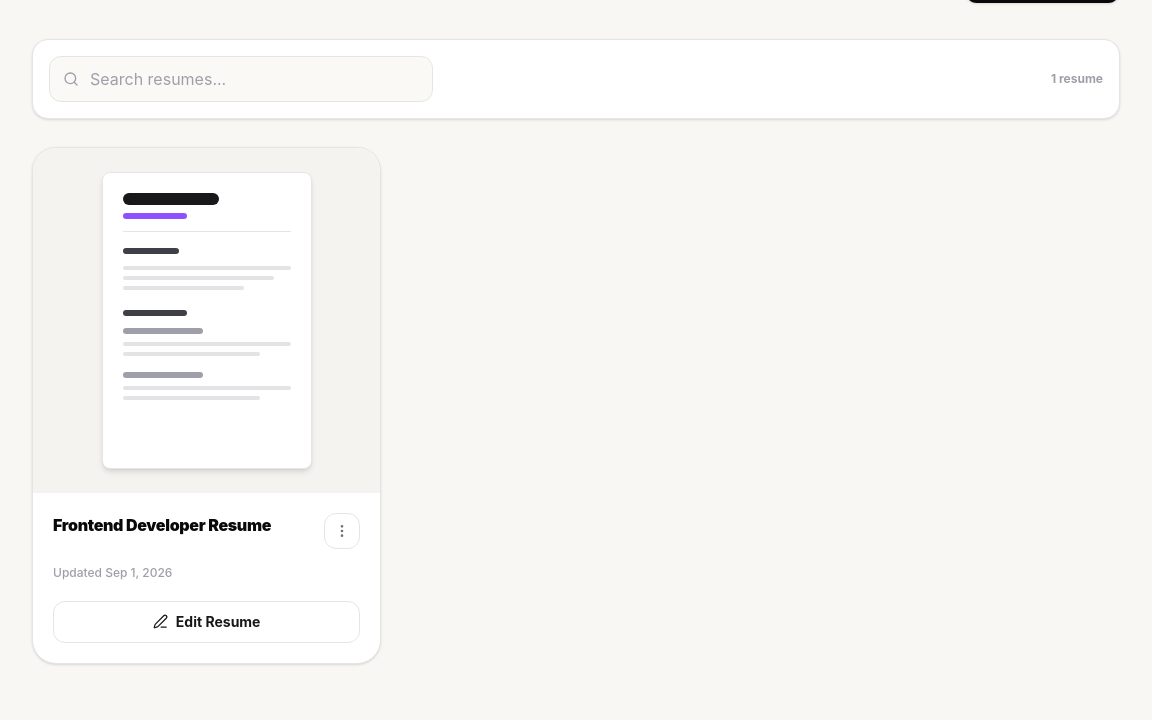
Test: ResumeCard action menu › opens the resume action menu
The width and height of the screenshot is (1152, 720).
(page scrolled)
Step 1. Click the button named "Actions for Frontend Developer Resume" → [342, 531], box [324, 513, 360, 549]
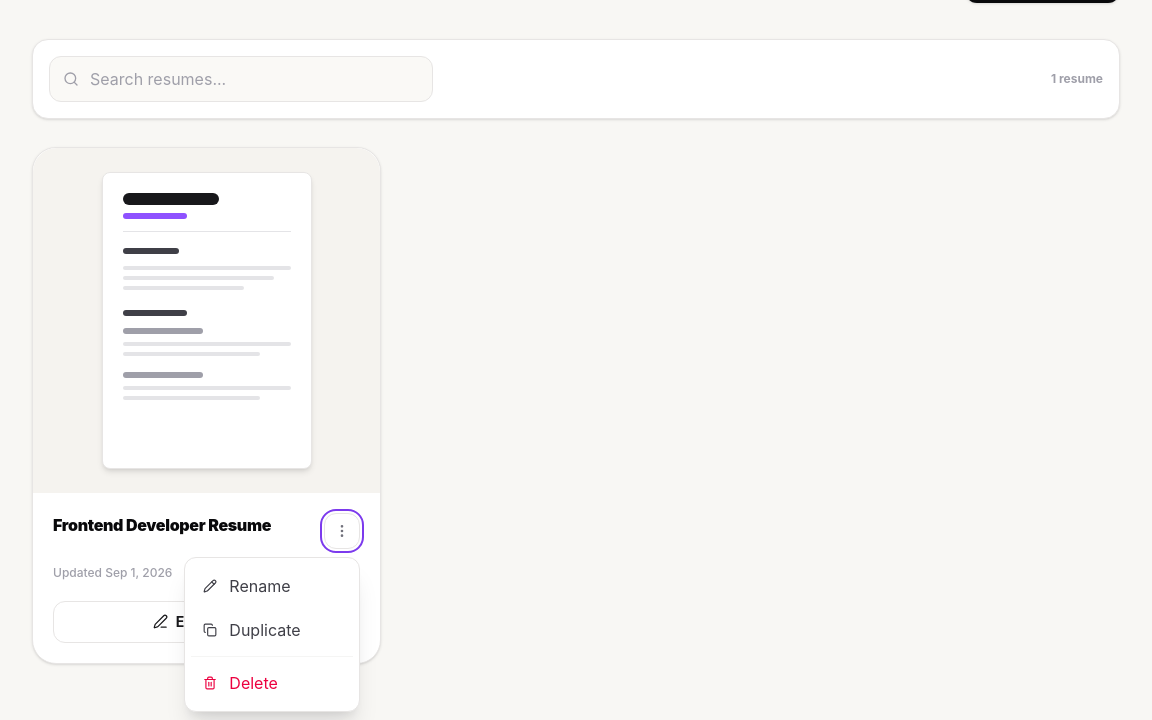
Now the button "Rename" is shown, box [191, 564, 353, 608]
Now the button "Duplicate" is shown, box [191, 608, 353, 652]
Now the button "Delete" is shown, box [191, 661, 353, 705]
